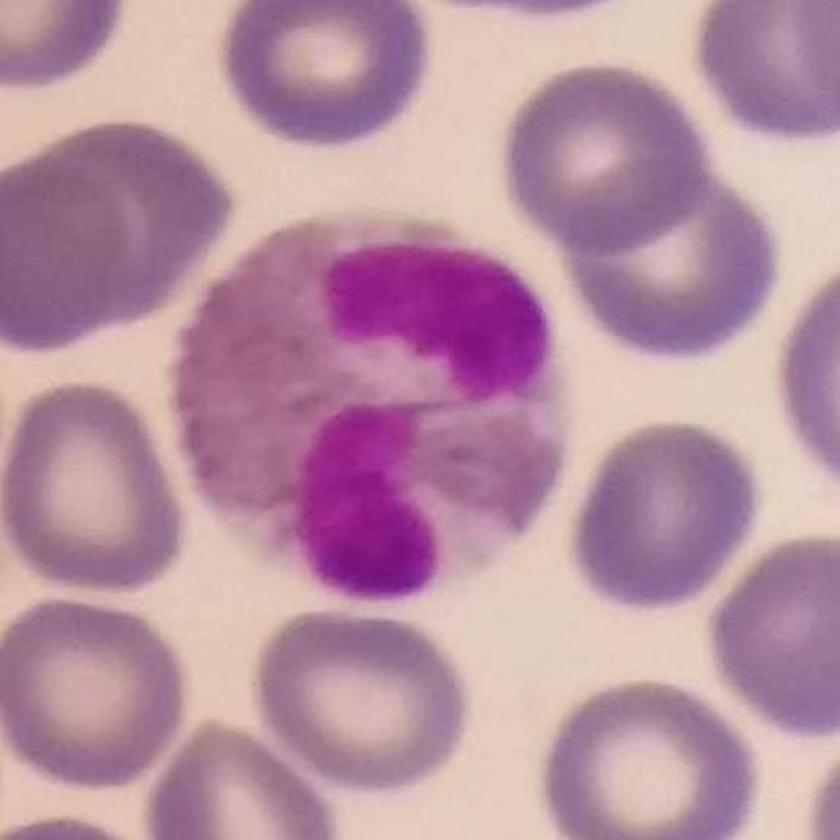eosinophil: (173, 207, 577, 602)
